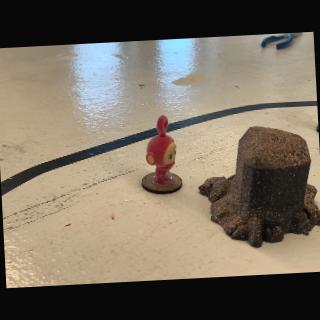teletubby: (146, 115, 176, 185)
